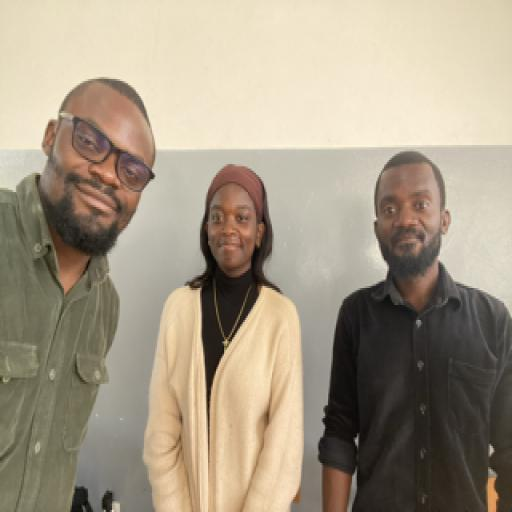JEANLUC: (45, 59, 158, 264)
LAURENE: (207, 157, 272, 290)
MATTHIEU: (364, 143, 456, 288)
